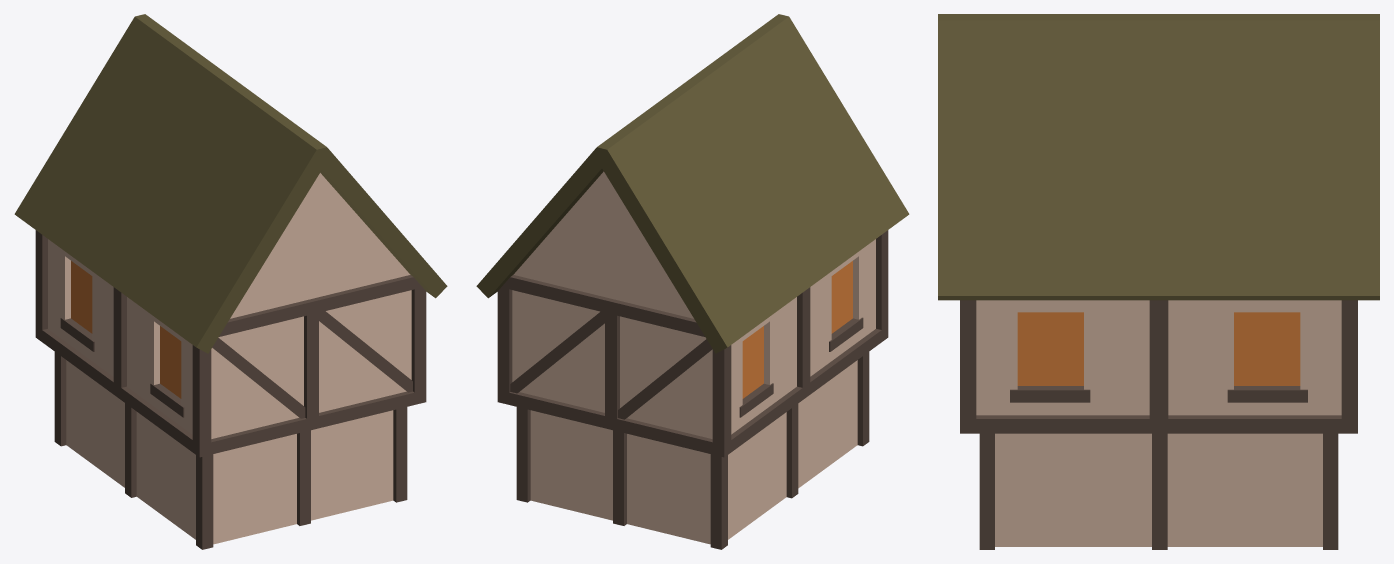
Rendered from house1.fbx.
The picture shows the model from 3 angles, left to right: view 1: azimuth 30°, elevation 25°; view 2: azimuth 150°, elevation 25°; view 3: azimuth 270°, elevation 25°; orthographic projection. The views are drawn at different scales.
Parts seen in each view (by area): view 1: Cube, Cube.009, Cube.001, Cube.006, Cube.004, Cube.005, Cube.007, Cube.010, Cube.008; view 2: Cube, Cube.009, Cube.001, Cube.006, Cube.002, Cube.003, Cube.007, Cube.008, Cube.010; view 3: Cube.009, Cube, Cube.001, Cube.006, Cube.010, Cube.008.
Part boxes in pixels (x1=…): Cube: x1=48, y1=173, x2=411, y2=544; Cube.009: x1=14, y1=14, x2=447, y2=353; Cube.001: x1=35, y1=230, x2=426, y2=457; Cube.006: x1=54, y1=352, x2=407, y2=549; Cube.004: x1=319, y1=311, x2=412, y2=392; Cube.005: x1=212, y1=338, x2=305, y2=418; Cube.007: x1=297, y1=430, x2=310, y2=525; Cube.010: x1=60, y1=317, x2=184, y2=417; Cube.008: x1=125, y1=403, x2=136, y2=497; Cube: x1=512, y1=171, x2=875, y2=544; Cube.009: x1=476, y1=14, x2=909, y2=353; Cube.001: x1=497, y1=230, x2=888, y2=457; Cube.006: x1=516, y1=352, x2=869, y2=549; Cube.002: x1=510, y1=311, x2=604, y2=393; Cube.003: x1=618, y1=339, x2=712, y2=419; Cube.007: x1=613, y1=430, x2=626, y2=525; Cube.008: x1=786, y1=404, x2=798, y2=498; Cube.010: x1=739, y1=317, x2=863, y2=417; Cube.009: x1=938, y1=14, x2=1379, y2=300; Cube: x1=976, y1=300, x2=1341, y2=546; Cube.001: x1=960, y1=300, x2=1357, y2=433; Cube.006: x1=979, y1=433, x2=1338, y2=549; Cube.010: x1=1010, y1=386, x2=1307, y2=402; Cube.008: x1=1152, y1=433, x2=1167, y2=549.
Bounding box in the file's own units: 3386 × 5011 × 4249.
